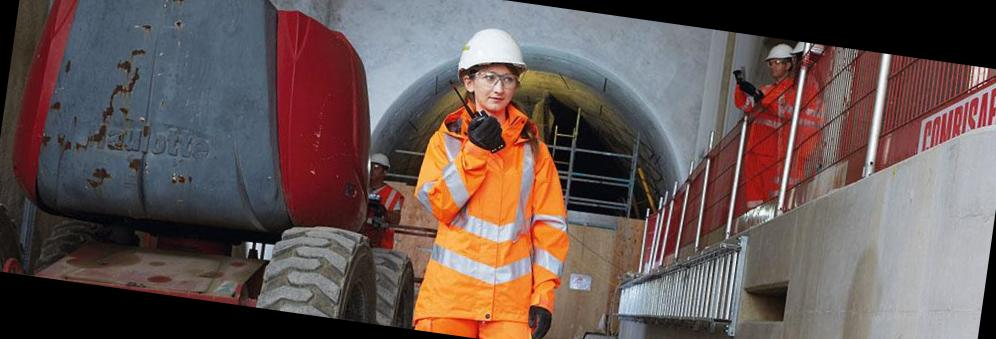Vest: (386, 103, 579, 339)
